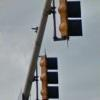traffic lights: (39, 51, 61, 100), (57, 1, 84, 40)
